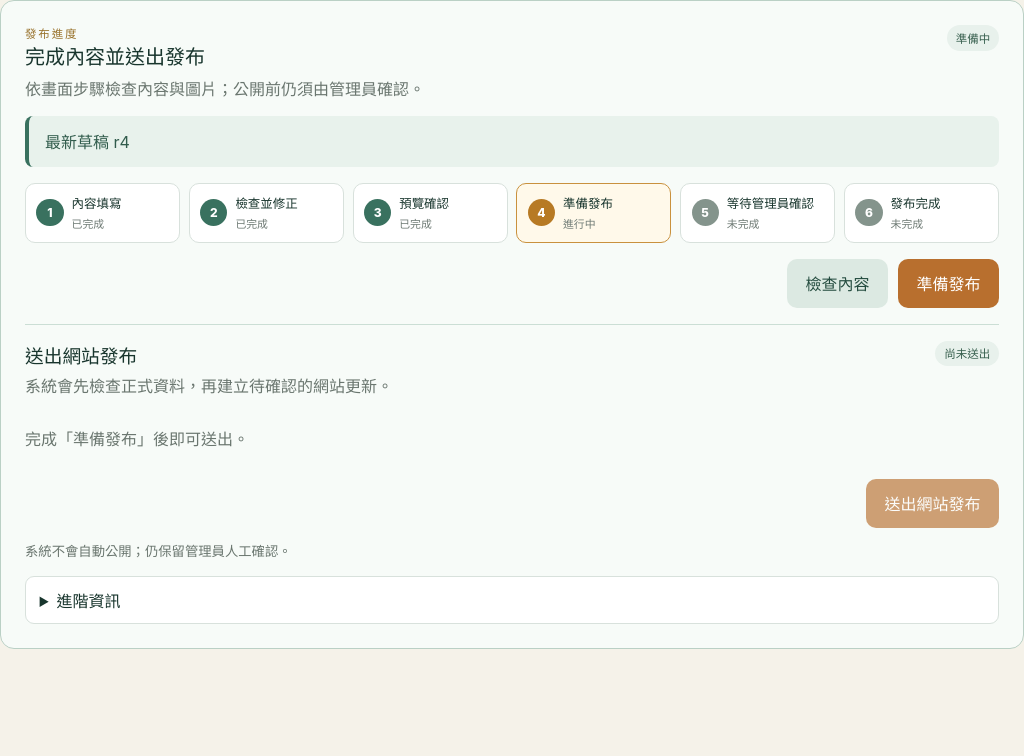
Scenario: 舊版資料不進入圖片準備，提供中文重新儲存提示
What coordinates should you click on to do the following:
click the button "準備發布"
I would click on:
 (949, 283)
Its box is x1=898 y1=259 x2=999 y2=308.
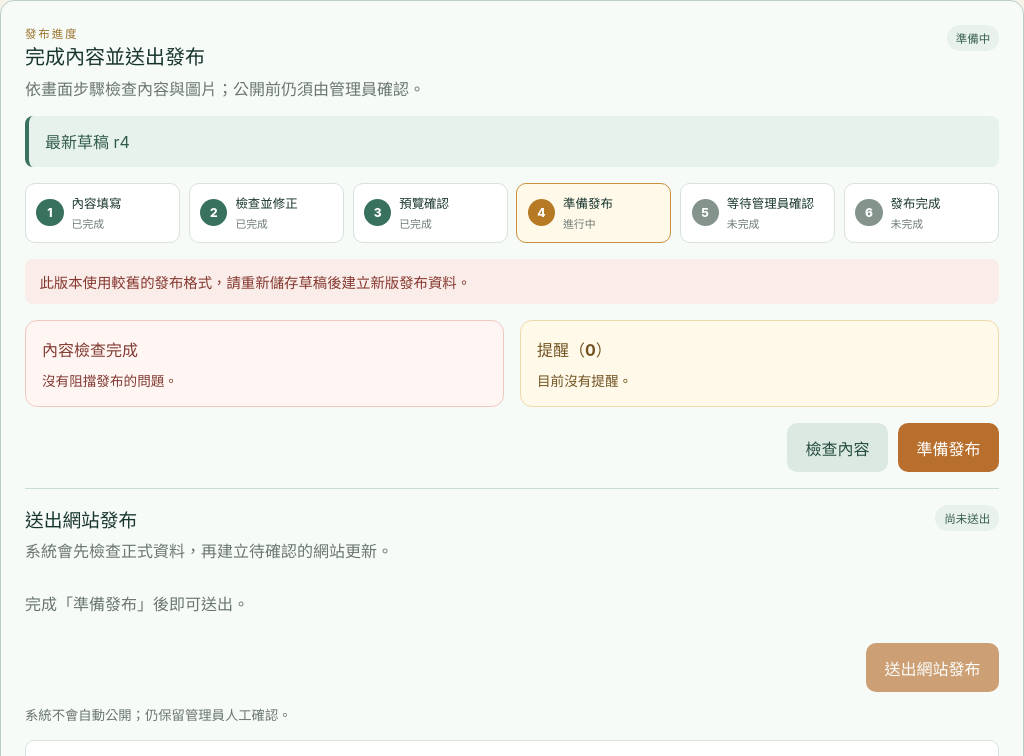
Now the text "此版本使用較舊的發布格式，請重新儲存草稿後建立新版發布資料。" is shown, box x1=25 y1=259 x2=999 y2=304
